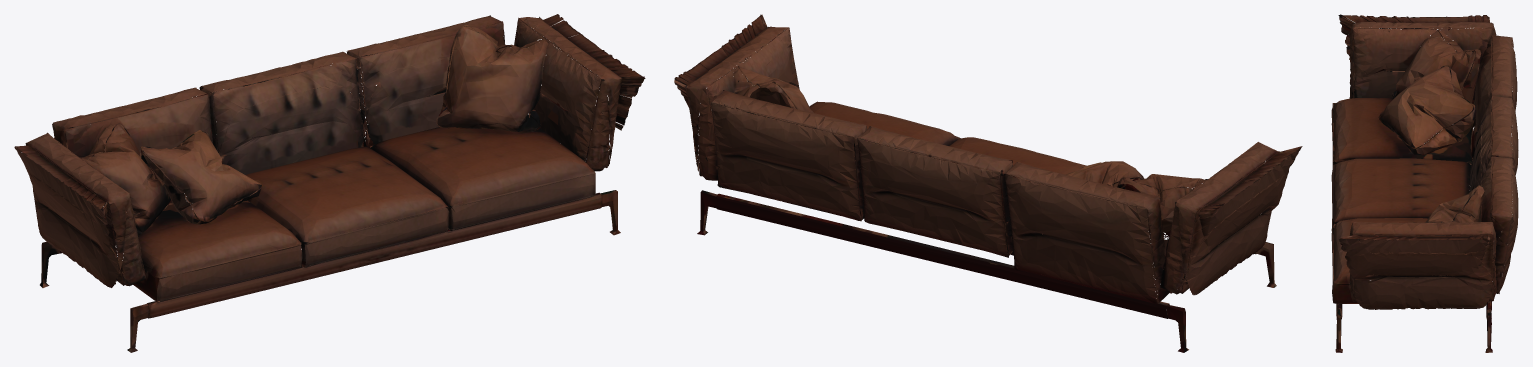
File: edited_mesh.glb
3 renders of one model, left to right at view 1: azimuth 30°, elevation 25°; view 2: azimuth 150°, elevation 25°; view 3: azimuth 270°, elevation 25°, orthographic. The views are drawn at different scales.
Visible parts, largest first — view 1: solid_001_wire; view 2: solid_001_wire; view 3: solid_001_wire.
Part boxes in pixels (x1,y1,x2,y2): solid_001_wire: (14,14,645,352); solid_001_wire: (674,14,1302,352); solid_001_wire: (1331,14,1518,352).
Bounding box in the file's own units: 2 × 0.577 × 0.7051.
Materials: 1 (1 with a texture image).
